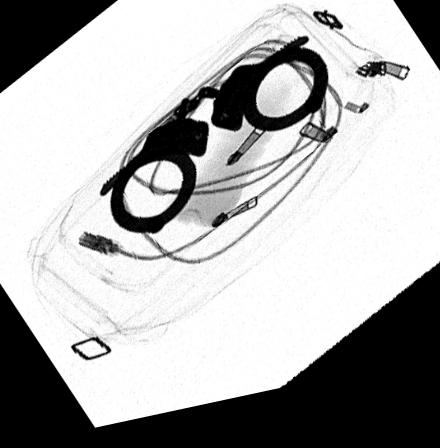HandCuffs: (95, 47, 329, 244)
